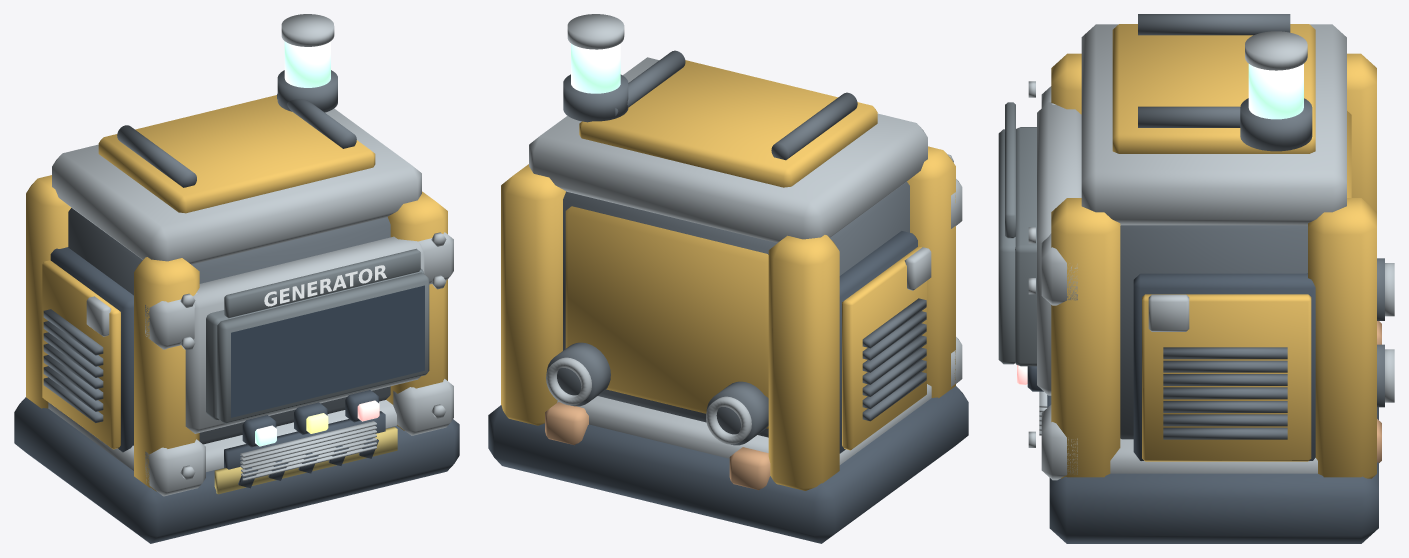
The model's file is generator_ultra.glb.
The picture shows the model from 3 angles, left to right: view 1: azimuth 30°, elevation 25°; view 2: azimuth 150°, elevation 25°; view 3: azimuth 270°, elevation 25°; orthographic projection. The views are drawn at different scales.
Visible parts, largest first — view 1: TopCap_steel_legacy_10, Base_black_legacy_0, Frame_orange_legacy_4, RoofPanel_orange_legacy_11, LiveViewSurface_glass, Housing_dark_legacy_2, CornerGuard_steel_legacy_5, DisplayFrame_steel_legacy_13, ServiceDoor_orange_legacy_7, LiveViewSurfaceFrame_frame, Detail_steel_legacy_24, SideVents_dark_legacy_8 (+13 smaller); view 2: Frame_orange_legacy_4, Armor_orange_legacy_3, Base_black_legacy_0, TopCap_steel_legacy_10, RoofPanel_orange_legacy_11, Housing_dark_legacy_2, ServiceDoor_orange_legacy_7, SideVents_dark_legacy_8, Skirt_steel_legacy_1, RearPort_dark_legacy_29, LiftRail_dark_legacy_12, RearPort_copper_legacy_31 (+7 smaller); view 3: Frame_orange_legacy_4, TopCap_steel_legacy_10, Base_black_legacy_0, ServiceDoor_orange_legacy_7, RoofPanel_orange_legacy_11, Housing_dark_legacy_2, SideVents_dark_legacy_8, DisplayFrame_steel_legacy_13, SidePanel_black_legacy_6, LiftRail_dark_legacy_12, ScreenMount_frame, CornerGuard_steel_legacy_5 (+10 smaller).
Boxes of the visible parts, left/top/right/bottom form: TopCap_steel_legacy_10: left=52, top=108, right=421, bottom=264; Base_black_legacy_0: left=14, top=397, right=459, bottom=543; Frame_orange_legacy_4: left=26, top=175, right=447, bottom=491; RoofPanel_orange_legacy_11: left=98, top=95, right=375, bottom=213; LiveViewSurface_glass: left=231, top=285, right=424, bottom=417; Housing_dark_legacy_2: left=68, top=208, right=390, bottom=444; CornerGuard_steel_legacy_5: left=145, top=232, right=453, bottom=496; DisplayFrame_steel_legacy_13: left=185, top=236, right=424, bottom=433; ServiceDoor_orange_legacy_7: left=42, top=260, right=120, bottom=449; LiveViewSurfaceFrame_frame: left=217, top=272, right=429, bottom=423; Detail_steel_legacy_24: left=180, top=232, right=446, bottom=480; SideVents_dark_legacy_8: left=43, top=309, right=103, bottom=422; Frame_orange_legacy_4: left=501, top=146, right=955, bottom=490; Armor_orange_legacy_3: left=565, top=206, right=768, bottom=428; Base_black_legacy_0: left=488, top=386, right=968, bottom=543; TopCap_steel_legacy_10: left=529, top=57, right=927, bottom=242; RoofPanel_orange_legacy_11: left=579, top=60, right=877, bottom=187; Housing_dark_legacy_2: left=563, top=182, right=909, bottom=437; ServiceDoor_orange_legacy_7: left=842, top=246, right=926, bottom=450; SideVents_dark_legacy_8: left=862, top=298, right=926, bottom=421; Skirt_steel_legacy_1: left=557, top=384, right=931, bottom=464; RearPort_dark_legacy_29: left=546, top=342, right=768, bottom=445; LiftRail_dark_legacy_12: left=615, top=50, right=857, bottom=160; RearPort_copper_legacy_31: left=545, top=402, right=770, bottom=490; Frame_orange_legacy_4: left=1051, top=53, right=1376, bottom=478; TopCap_steel_legacy_10: left=1081, top=24, right=1346, bottom=225; Base_black_legacy_0: left=1049, top=407, right=1378, bottom=543; ServiceDoor_orange_legacy_7: left=1142, top=294, right=1311, bottom=461; RoofPanel_orange_legacy_11: left=1112, top=24, right=1315, bottom=153; Housing_dark_legacy_2: left=1120, top=225, right=1307, bottom=439; SideVents_dark_legacy_8: left=1163, top=347, right=1287, bottom=439; DisplayFrame_steel_legacy_13: left=1037, top=102, right=1081, bottom=395; SidePanel_black_legacy_6: left=1133, top=273, right=1315, bottom=460; LiftRail_dark_legacy_12: left=1138, top=14, right=1290, bottom=127; ScreenMount_frame: left=1015, top=127, right=1036, bottom=366; CornerGuard_steel_legacy_5: left=1041, top=86, right=1077, bottom=480.
Bounding box in the file's own units: 1.43 × 1.65 × 1.27.
